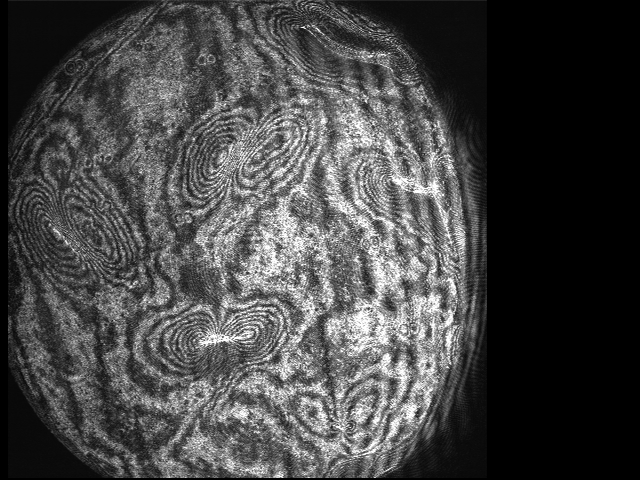plume: (179, 109, 306, 192), (17, 194, 139, 280), (148, 304, 288, 374)
